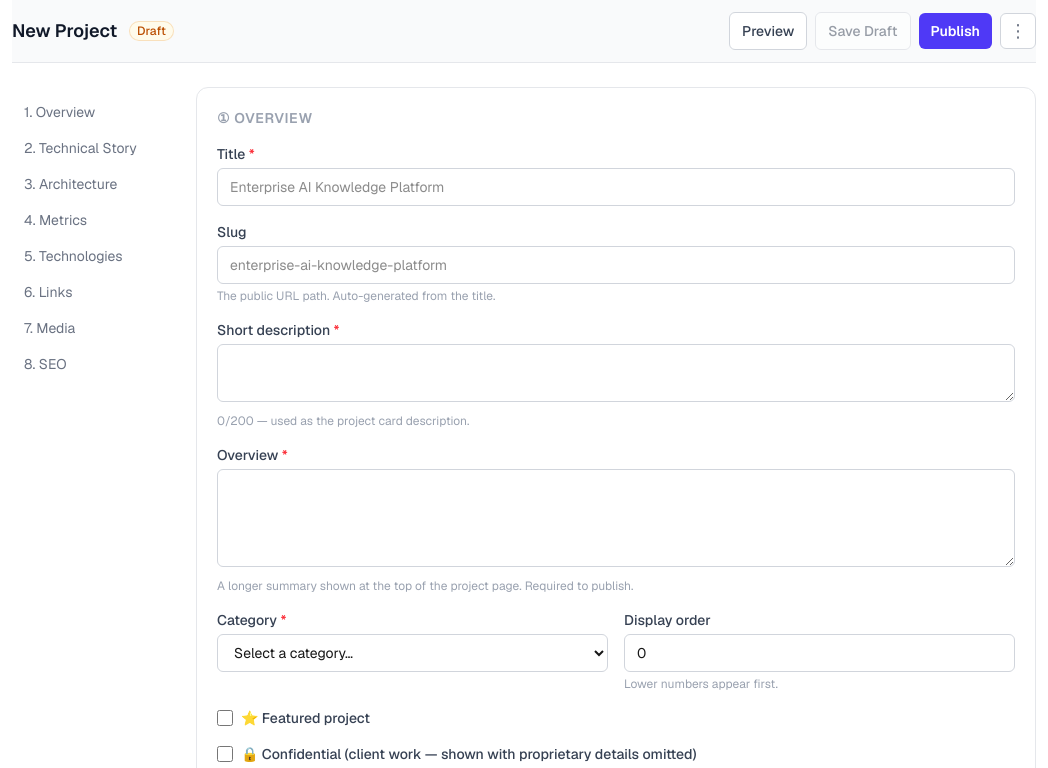
Test case: ProjectEditor › shows the short-description character counter
Expected: the text "0/200 — used as the project card description." is shown, [217,413,469,429]
Type "Hello" into the text box labelled "Short description" at (616, 373), box [217,344,1015,402]
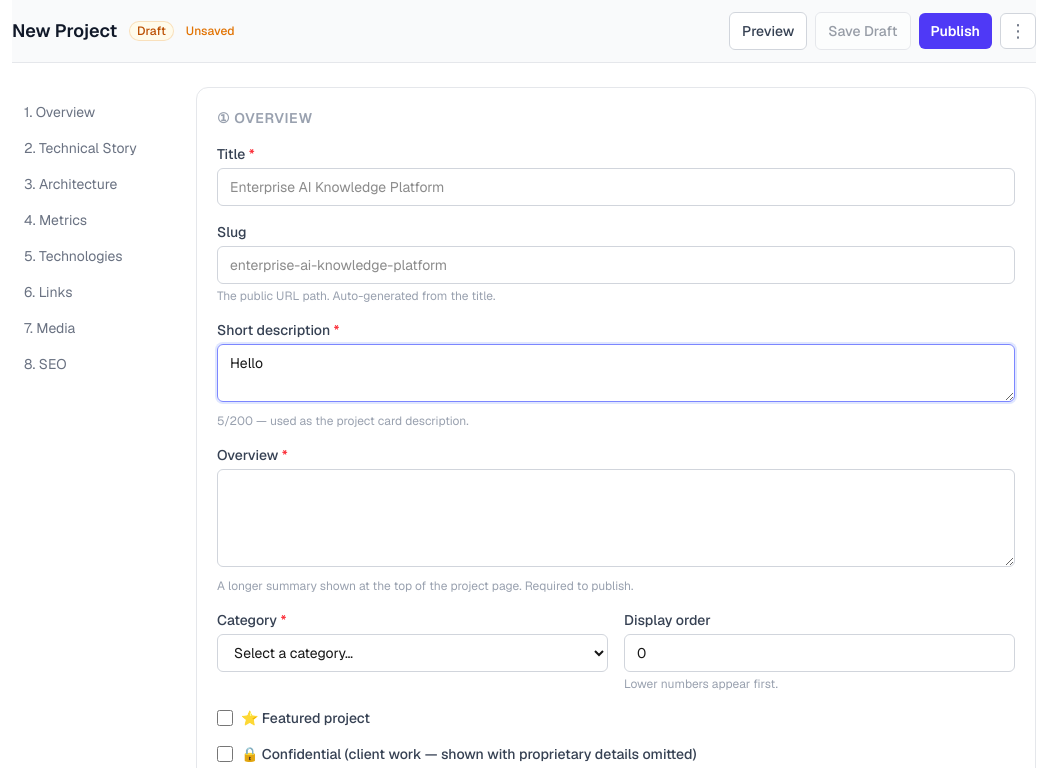
Result: the text "5/200 — used as the project card description." is shown at [217,413,469,429]
